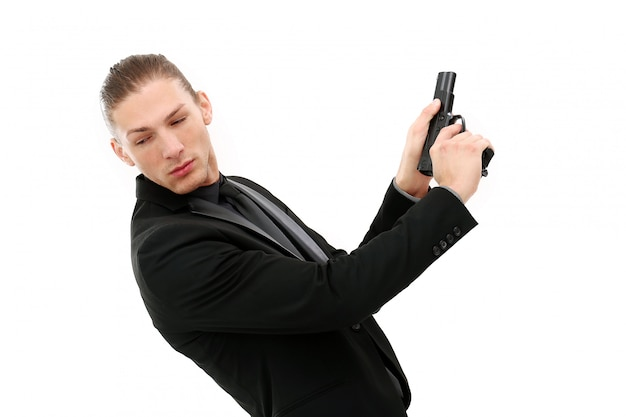gun: (417, 71, 495, 178)
